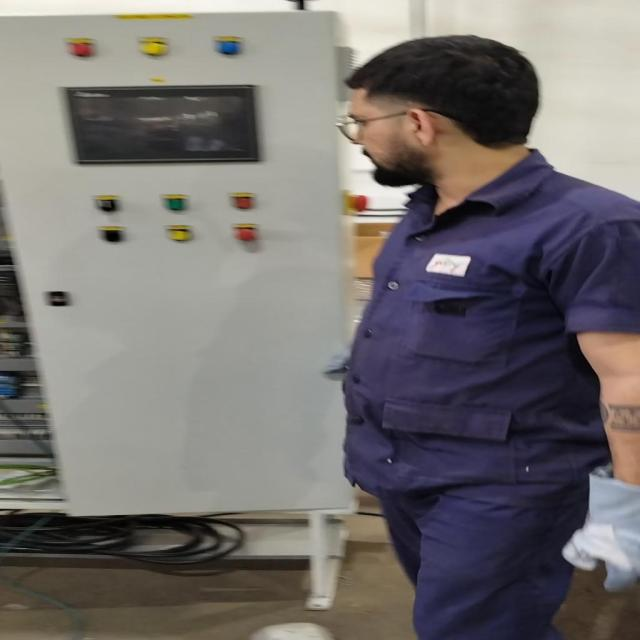Gloves-Detection: (560, 459, 640, 604)
